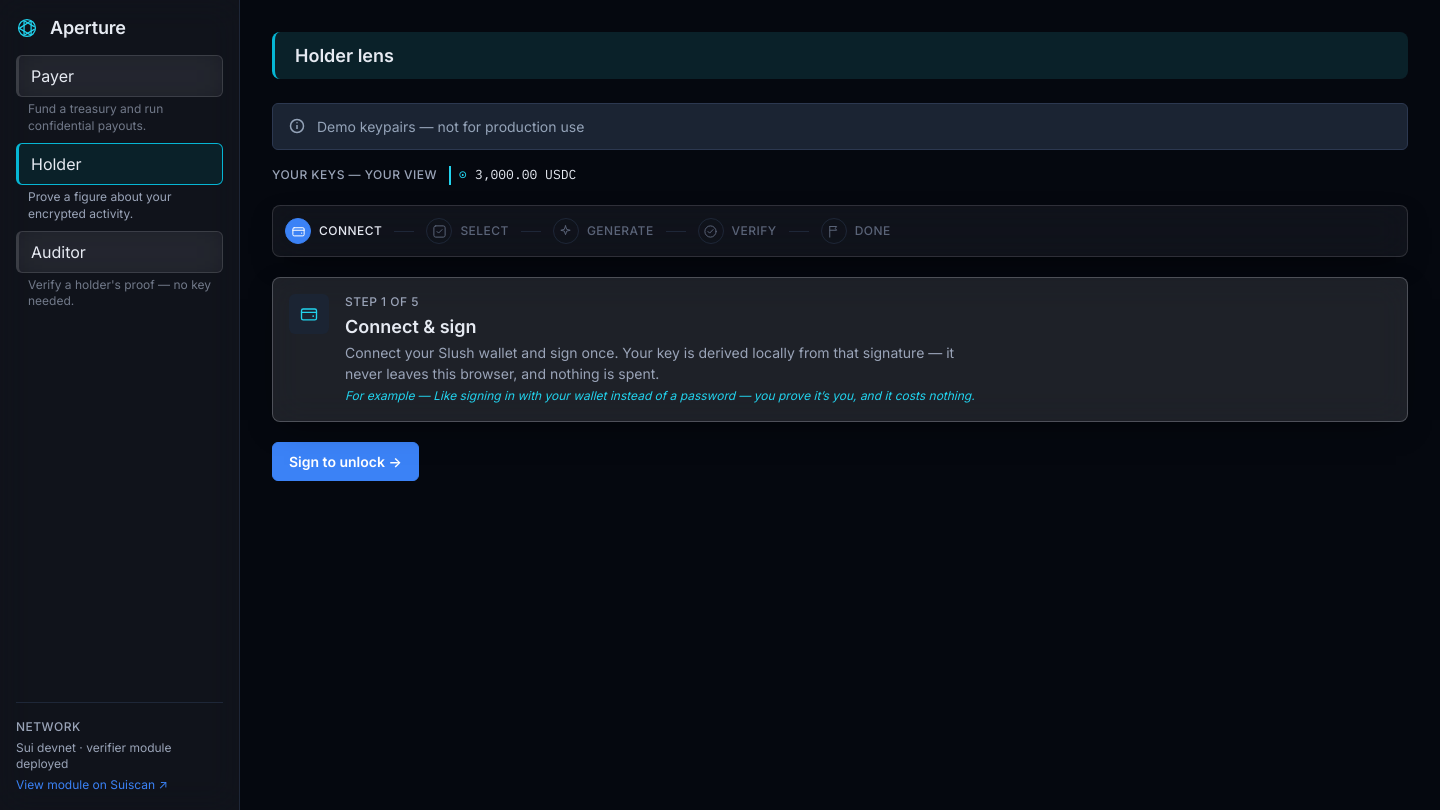
App lens switching (AC-1) › shows Payer coming-soon stub text in Payer lens
Click the button "Payer": [120, 76] box [16,55,223,97]
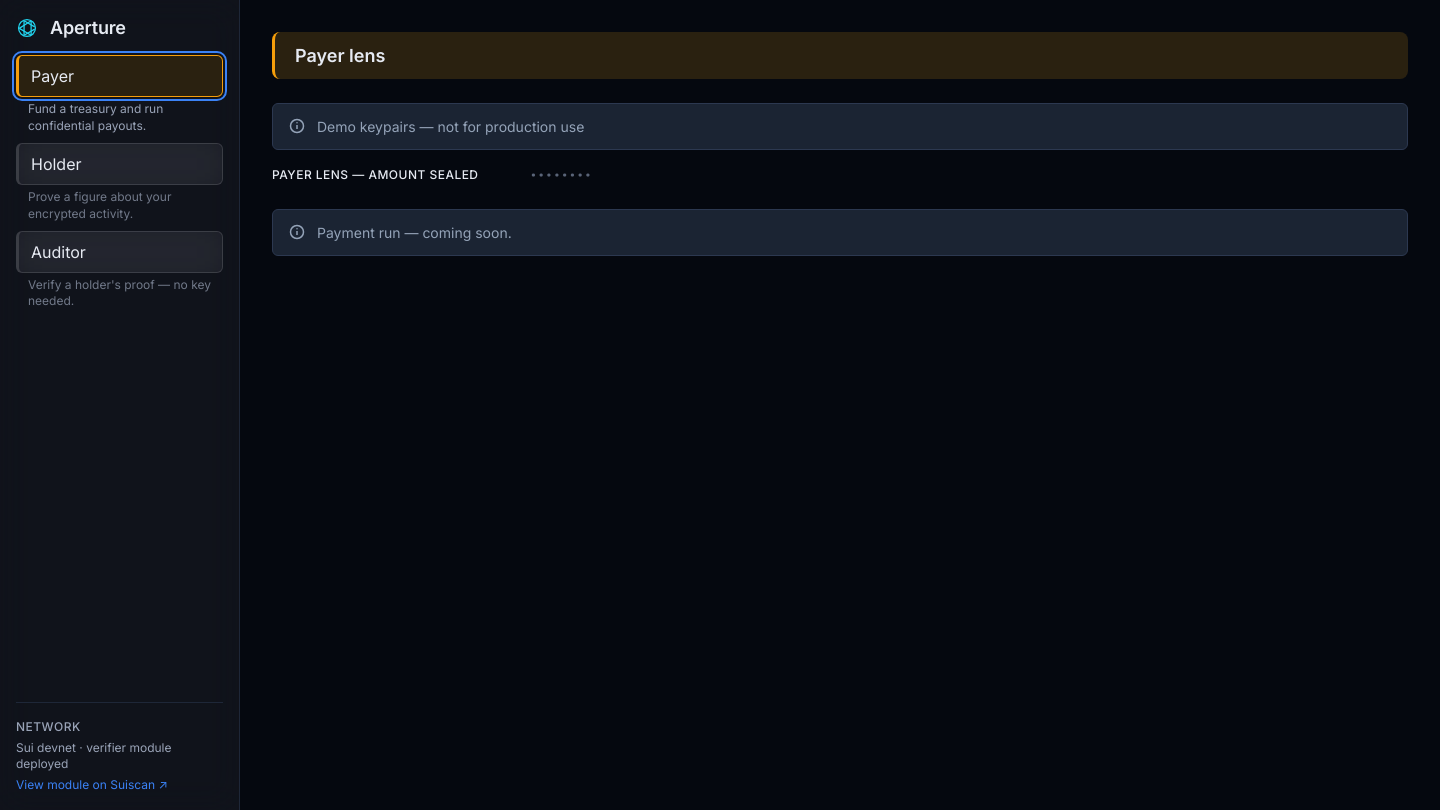
Result: the text "Payment run — coming soon." is shown at [317,222,512,243]
